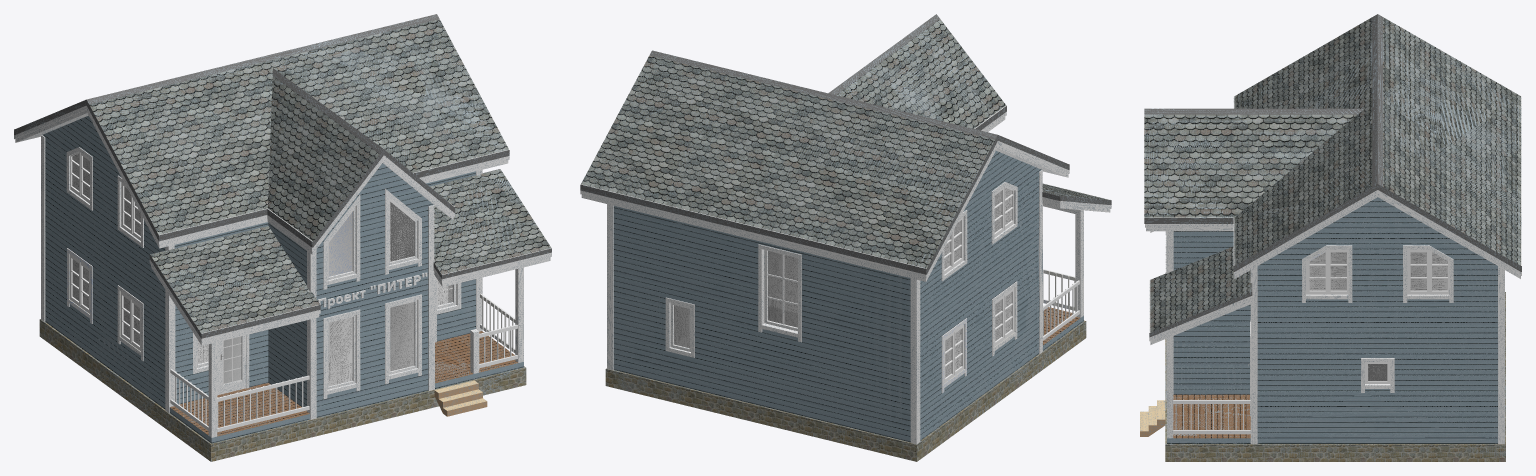
File: Питер 1.dae
3 renders of one model, left to right at view 1: azimuth 30°, elevation 25°; view 2: azimuth 150°, elevation 25°; view 3: azimuth 270°, elevation 25°, orthographic.
Parts seen in each view (by area): view 1: SketchUp (×30), Lectnica_90_45, Component_7, White_Railing, window_100_x_100_cm; view 2: SketchUp (×17), window_100_x_100_cm (×2); view 3: SketchUp (×17), group_9 (×2), White_Railing (×2).
Boxes of the visible parts, <box> form: SketchUp (×30): <box>14,14,551,461</box>; Lectnica_90_45: <box>434,383,487,416</box>; Component_7: <box>219,335,245,394</box>; White_Railing: <box>264,375,309,420</box>; window_100_x_100_cm: <box>117,285,143,361</box>; SketchUp (×17): <box>580,14,1111,461</box>; window_100_x_100_cm (×2): <box>941,281,1017,393</box>; SketchUp (×17): <box>1144,14,1521,461</box>; group_9 (×2): <box>1307,250,1449,293</box>; White_Railing (×2): <box>1173,399,1250,434</box>.
Bounding box in the file's own units: 376 × 357 × 295.
